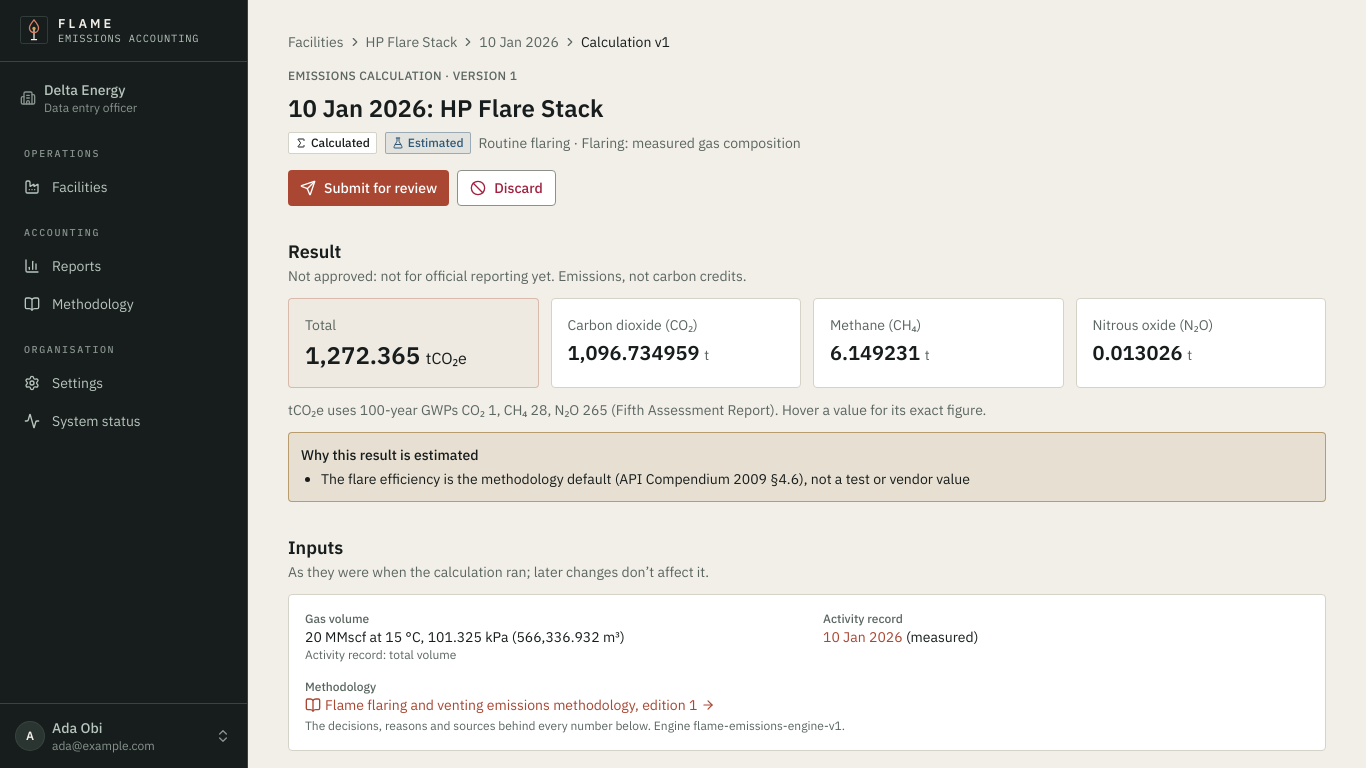
Scenario: a calculation page › shows the result, why it is estimated, and each number linked to the edition it came from
Expected: the element titled "Exact: 1272.36525451841980422144 tCO₂e" shows "1,272.365", [305,339,420,371]
Expected: the text "Not approved: not for official reporting yet" is shown, [288,267,746,285]
Click the button "Submit for review". click: {"x": 369, "y": 188}
box: [288,170,449,206]
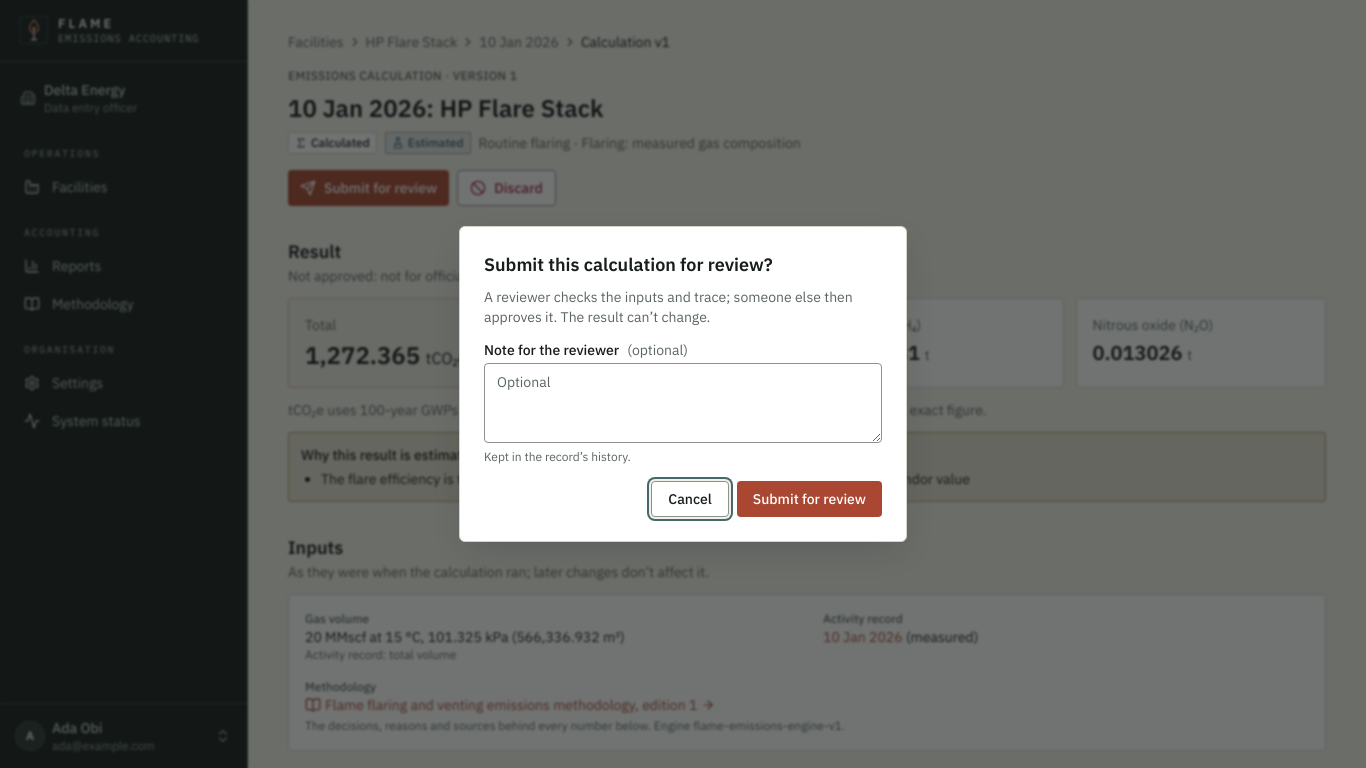
Click the button "Submit for review". click: {"x": 809, "y": 499}
box: [737,481,882,517]
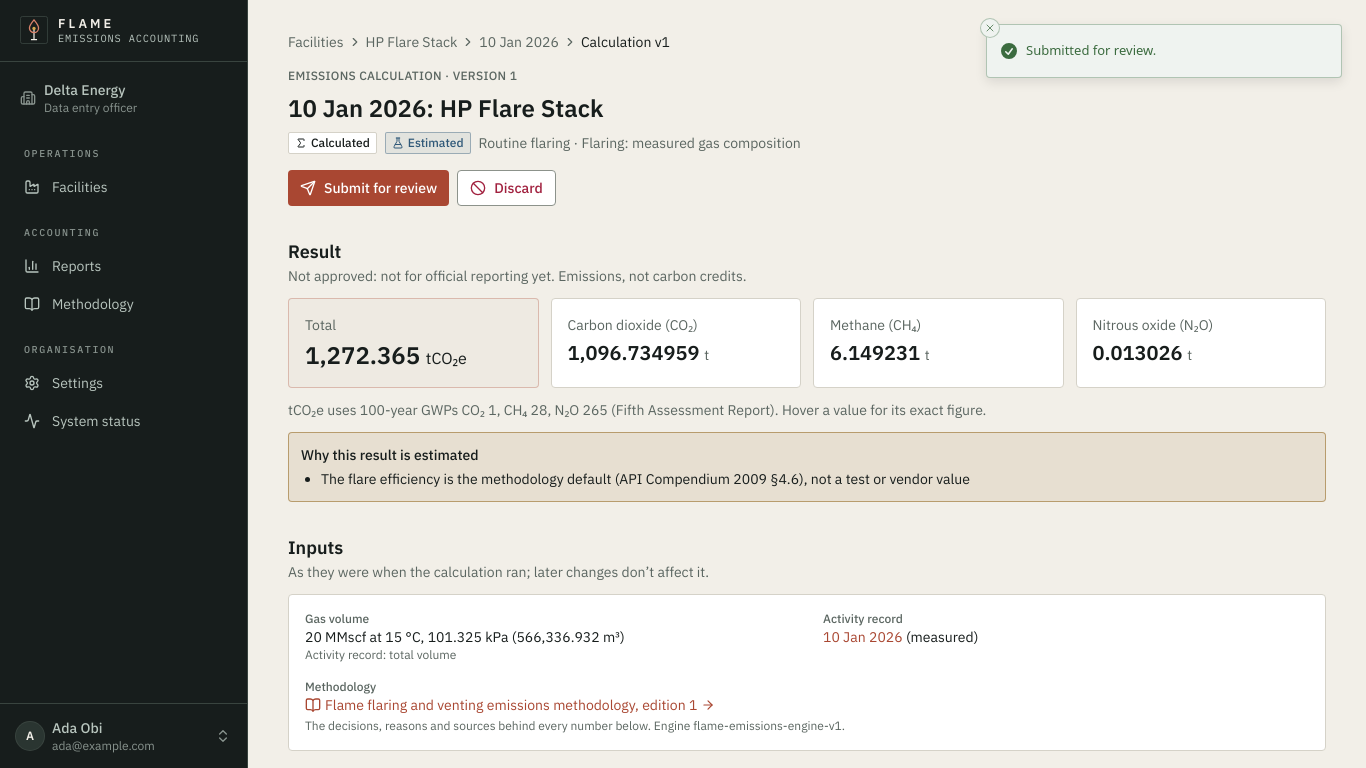
Result: the text "Submitted for review." is shown at [1026,41,1156,60]
